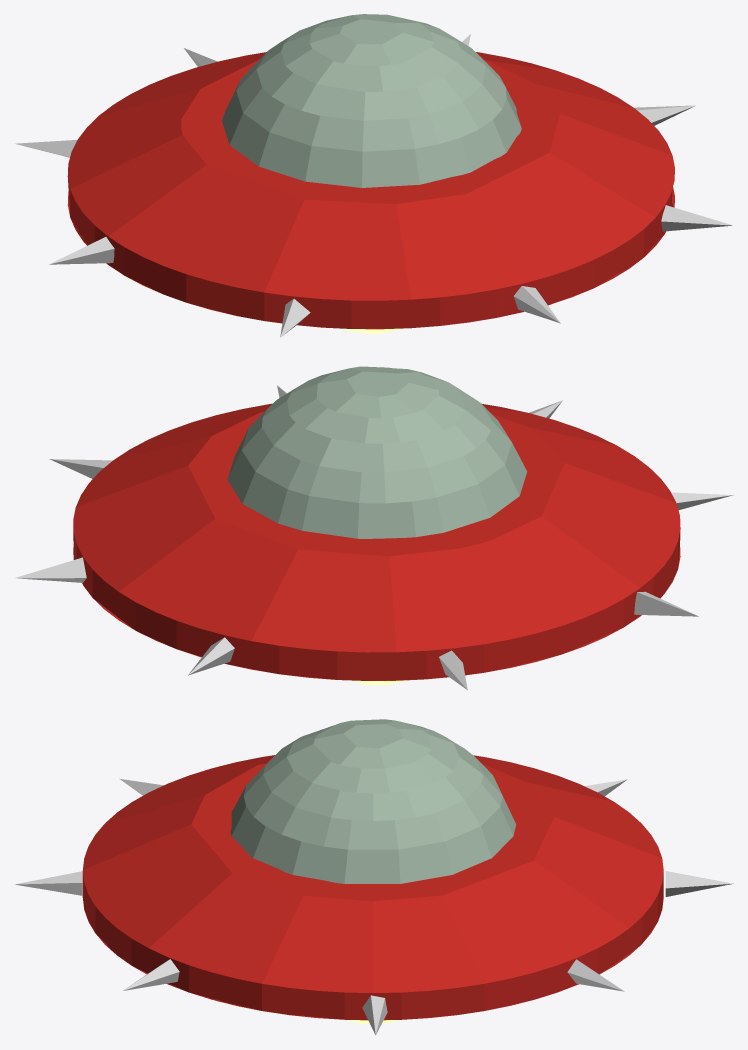
The model's file is ufo-elite.fbx.
3 views of the same model, one above another, from view 1: azimuth 30°, elevation 25°; view 2: azimuth 150°, elevation 25°; view 3: azimuth 270°, elevation 25° (orthographic). The views are drawn at different scales.
Visible parts, largest first — view 1: Circle, Cone; view 2: Circle, Cone; view 3: Circle, Cone.
Part boxes in pixels (x1=…): Circle: x1=67, y1=14, x2=674, y2=333; Cone: x1=15, y1=34, x2=732, y2=337; Circle: x1=73, y1=366, x2=680, y2=685; Cone: x1=14, y1=385, x2=733, y2=689; Circle: x1=82, y1=719, x2=663, y2=1023; Cone: x1=14, y1=778, x2=733, y2=1035.
Bounding box in the file's own units: 796 × 342 × 800.
